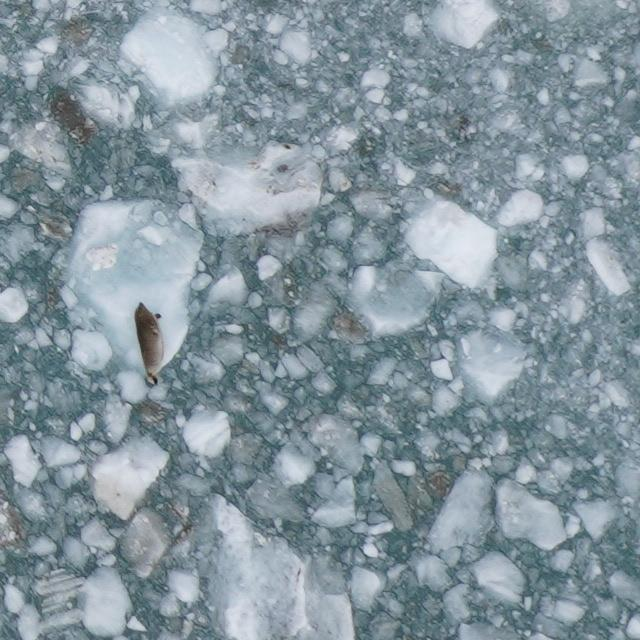seal: (131, 299, 168, 390)
